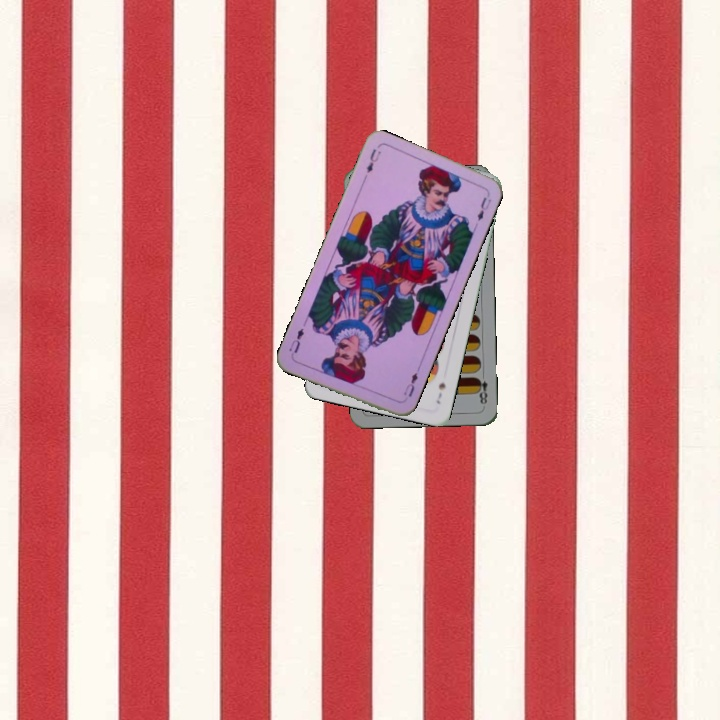E8: (473, 368, 490, 409)
EU: (362, 145, 384, 176), (400, 368, 421, 400)
S7: (432, 379, 448, 406)
